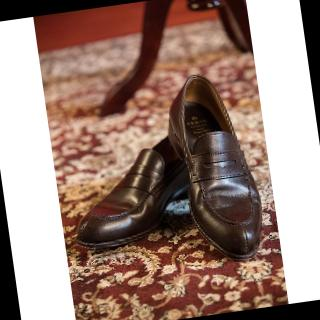loafers: (51, 66, 270, 288)
